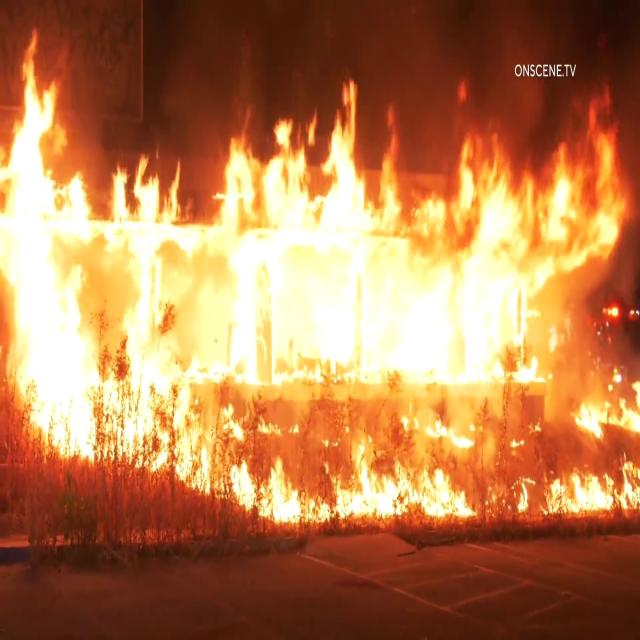fire: (3, 87, 637, 515), (85, 104, 192, 453), (211, 98, 422, 264), (0, 94, 84, 460), (510, 107, 614, 384), (422, 95, 513, 406)
